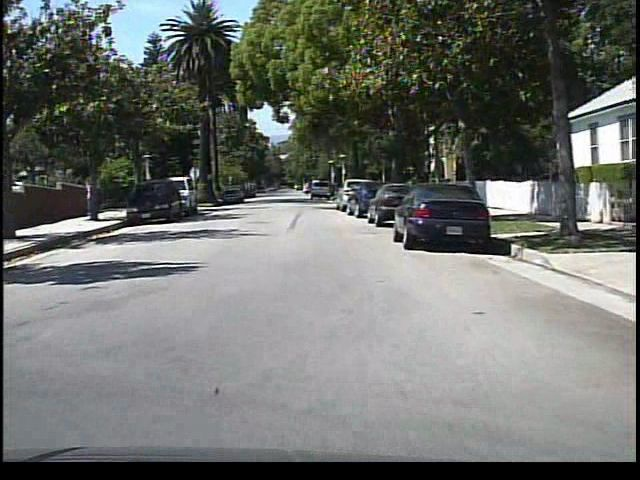person: (80, 177, 97, 216)
